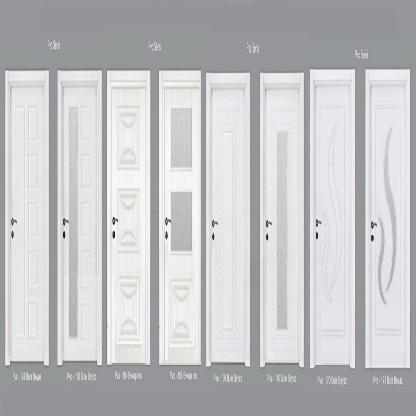door: (370, 83, 405, 366), (211, 86, 246, 361), (314, 84, 348, 364), (9, 84, 43, 359), (62, 86, 96, 360), (264, 87, 298, 361), (163, 87, 197, 358), (112, 87, 144, 362)
